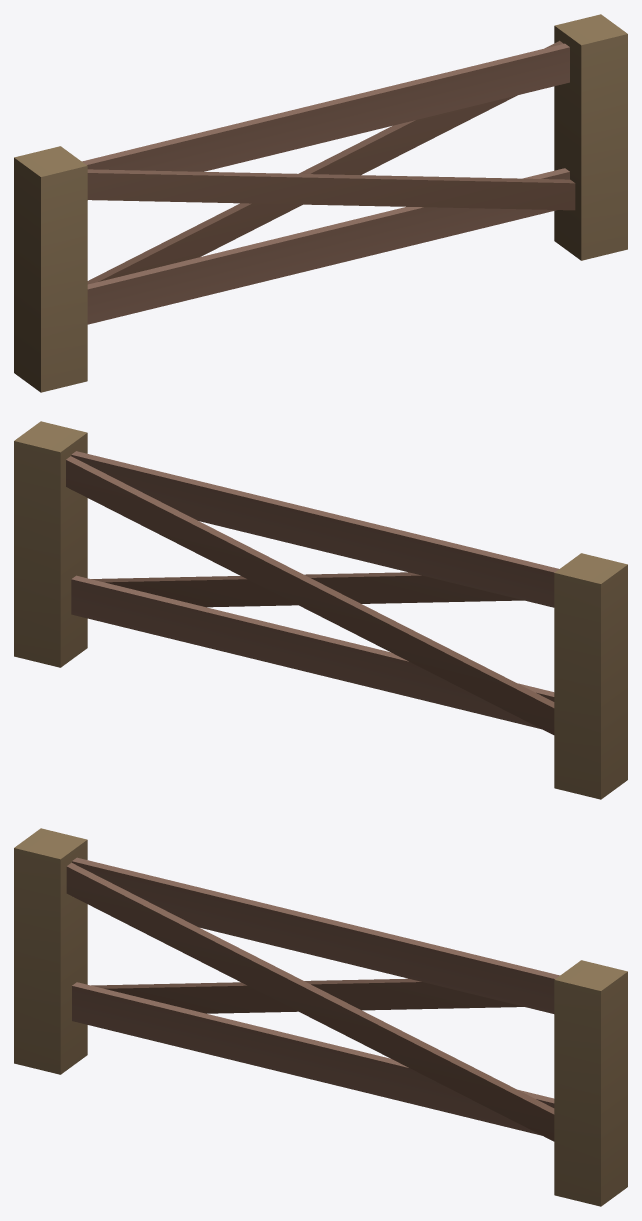
The model's file is Fence.fbx.
3 renders of one model, top to bottom at view 1: azimuth 30°, elevation 25°; view 2: azimuth 150°, elevation 25°; view 3: azimuth 330°, elevation 25°, orthographic.
Parts seen in each view (by area): view 1: Fence; view 2: Fence; view 3: Fence.
Part boxes in pixels (x1,y1,x2,y2): Fence: (14,14,627,392); Fence: (14,421,627,799); Fence: (14,828,627,1206).
Bounding box in the file's own units: 341 × 119 × 27.06.
